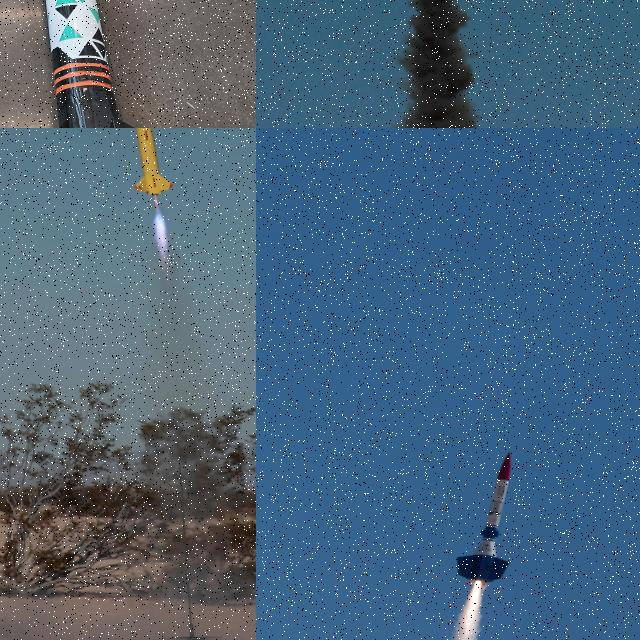Rocket: (45, 0, 136, 128), (456, 451, 514, 585), (131, 128, 176, 196)
